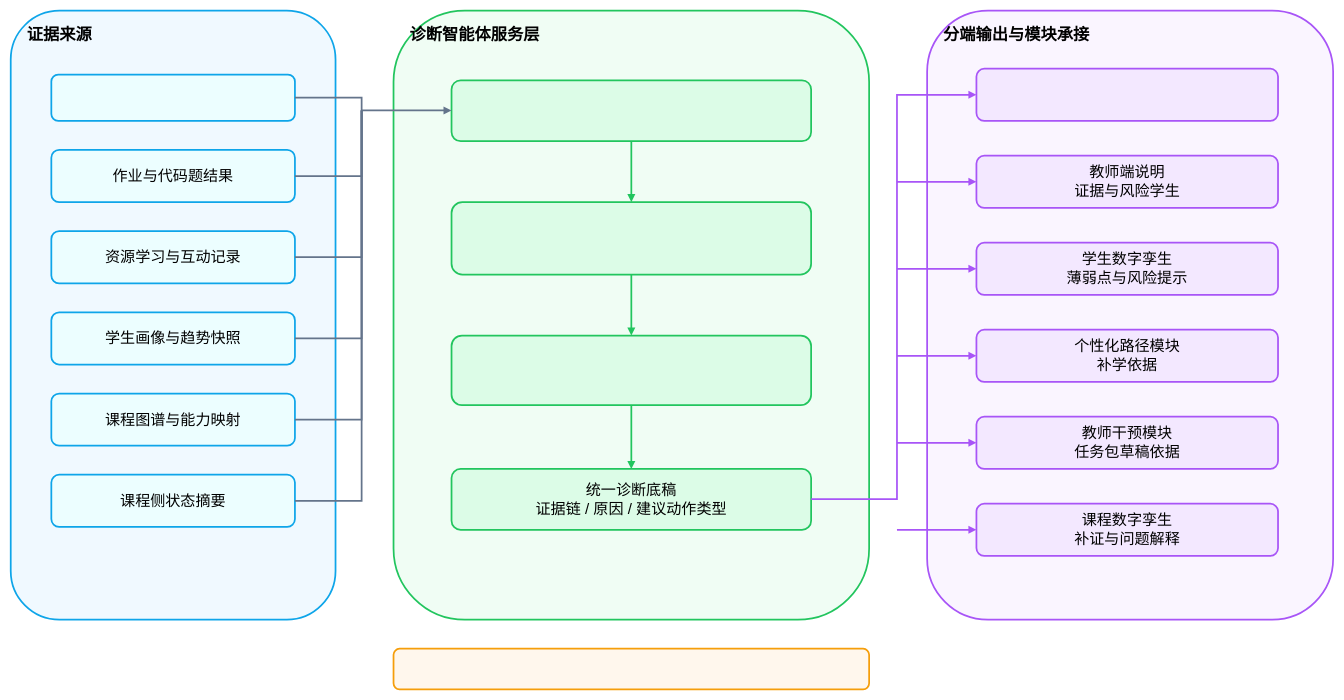
Some shapes in this 1344 by 700 pixel diagram are drawn without their labels. The centre of each missing label's shape, as x and y in pixels:
"原因解释与建议动作 规则诊断 + LLM 可读说明" goes at pixel 631 370.
"在线测验记录" goes at pixel 173 97.
"学生端说明 薄弱点与下一步" goes at pixel 1127 95.
"证据充分性判断 依据充分 / 一般 / 不足" goes at pixel 631 110.
"诊断类型识别 薄弱知识点 / 实践能力 / 代码失败 / 能力缺口" goes at pixel 631 238.
"边界：诊断智能体只生成解释与依据，不生成最终路径，不直接下发干预任务" goes at pixel 631 669.
